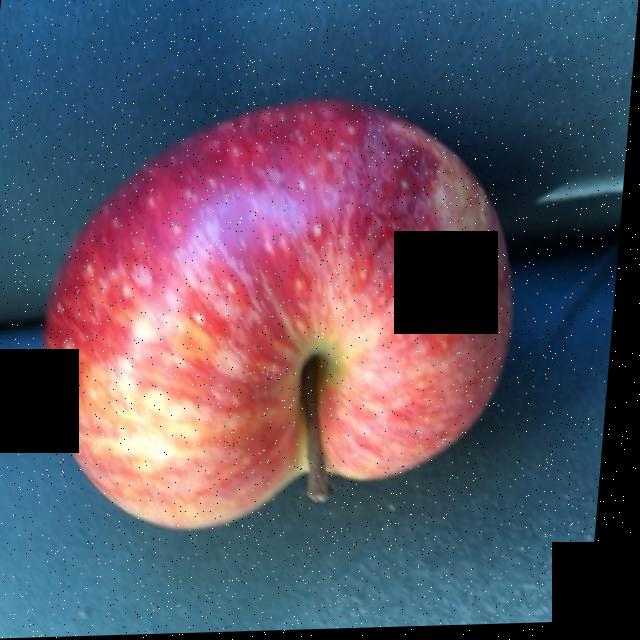apple: (48, 111, 488, 525)
